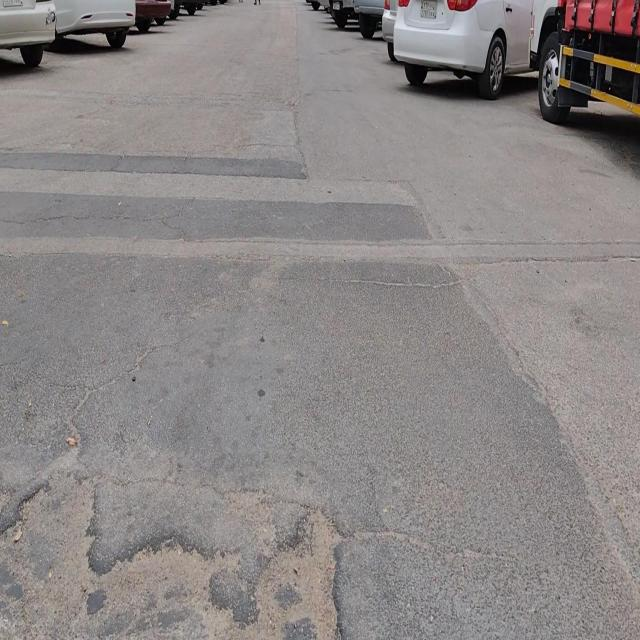Pothole: (84, 531, 245, 640), (252, 505, 343, 634)
